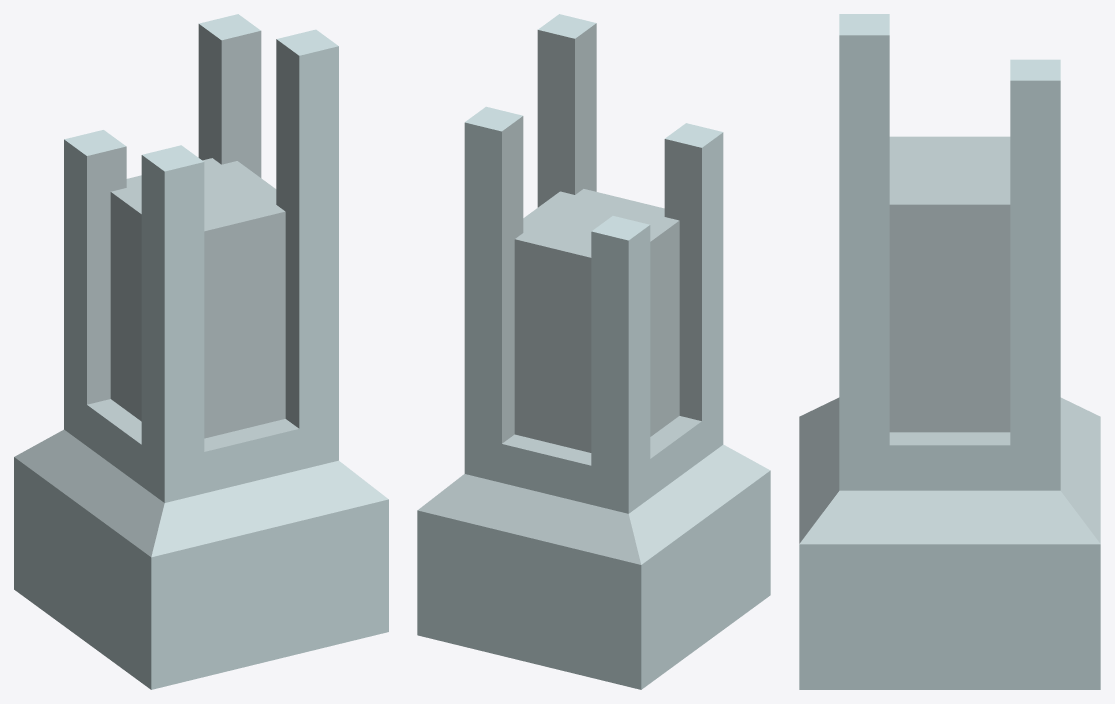
Rendered from statue_columnDamaged.gltf.
The picture shows the model from 3 angles, left to right: view 1: azimuth 30°, elevation 25°; view 2: azimuth 150°, elevation 25°; view 3: azimuth 270°, elevation 25°; orthographic projection. The views are drawn at different scales.
Visible parts, largest first — view 1: statue_columnDamaged; view 2: statue_columnDamaged; view 3: statue_columnDamaged.
Part boxes in pixels (x1,y1,x2,y2): statue_columnDamaged: (14,14,388,689); statue_columnDamaged: (417,14,770,689); statue_columnDamaged: (799,14,1100,689).
Size of the model in its own units: 0.3 by 0.7 by 0.3.
